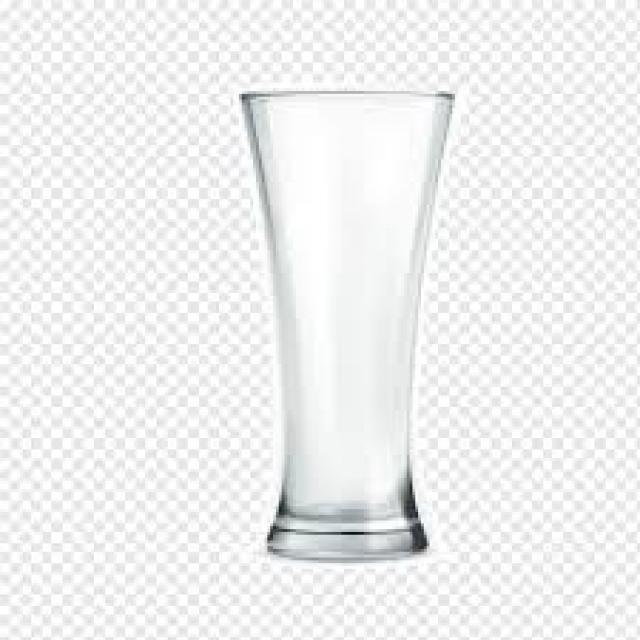Glass-Non-Biodegradable but Recyclable-: (237, 96, 458, 565)
